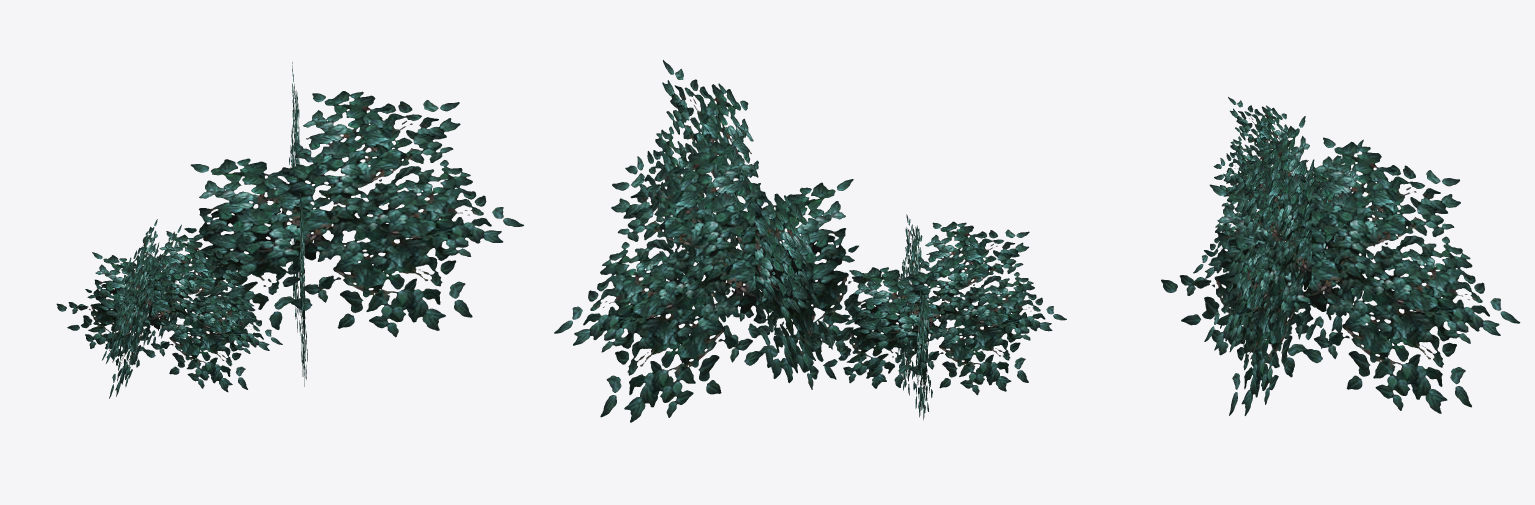
Rendered from shrb_dath_greybush_lg_l3.fbx.
The picture shows the model from 3 angles, left to right: view 1: azimuth 30°, elevation 25°; view 2: azimuth 150°, elevation 25°; view 3: azimuth 270°, elevation 25°; orthographic projection. The views are drawn at different scales.
Parts seen in each view (by area): view 1: mesh_node; view 2: mesh_node; view 3: mesh_node.
Part boxes in pixels (<box>): mesh_node: <box>56,62,523,398</box>; mesh_node: <box>554,60,1066,422</box>; mesh_node: <box>1161,97,1520,415</box>.
Bounding box in the file's own units: 5.54 × 3.91 × 4.58.
